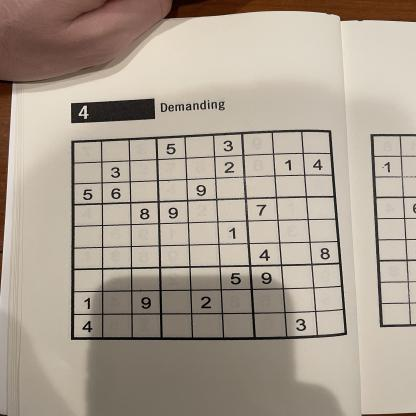sudoku: (61, 123, 350, 347)
